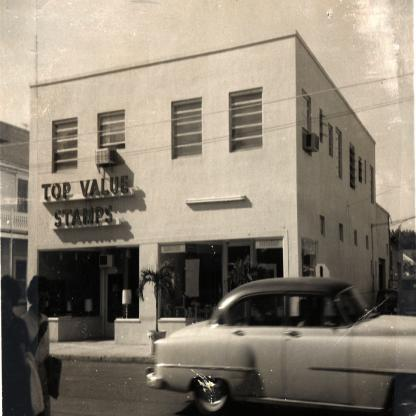Car: (149, 275, 394, 411), (397, 272, 416, 316), (372, 290, 398, 316)
